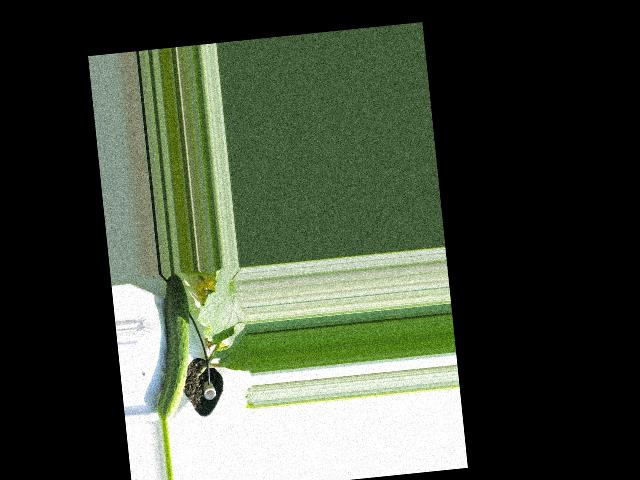cucumber: (143, 272, 199, 424)
